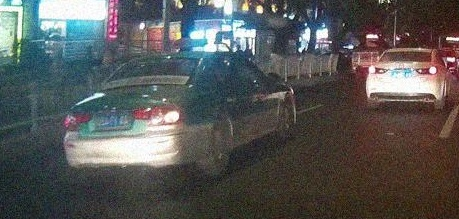L_light: (64, 111, 93, 129), (368, 65, 389, 74)
R_light: (133, 104, 186, 126), (415, 66, 438, 75)
T_light: (154, 56, 175, 60), (403, 51, 416, 53)
night-no: (366, 48, 443, 111)
night-right: (63, 52, 208, 188)
